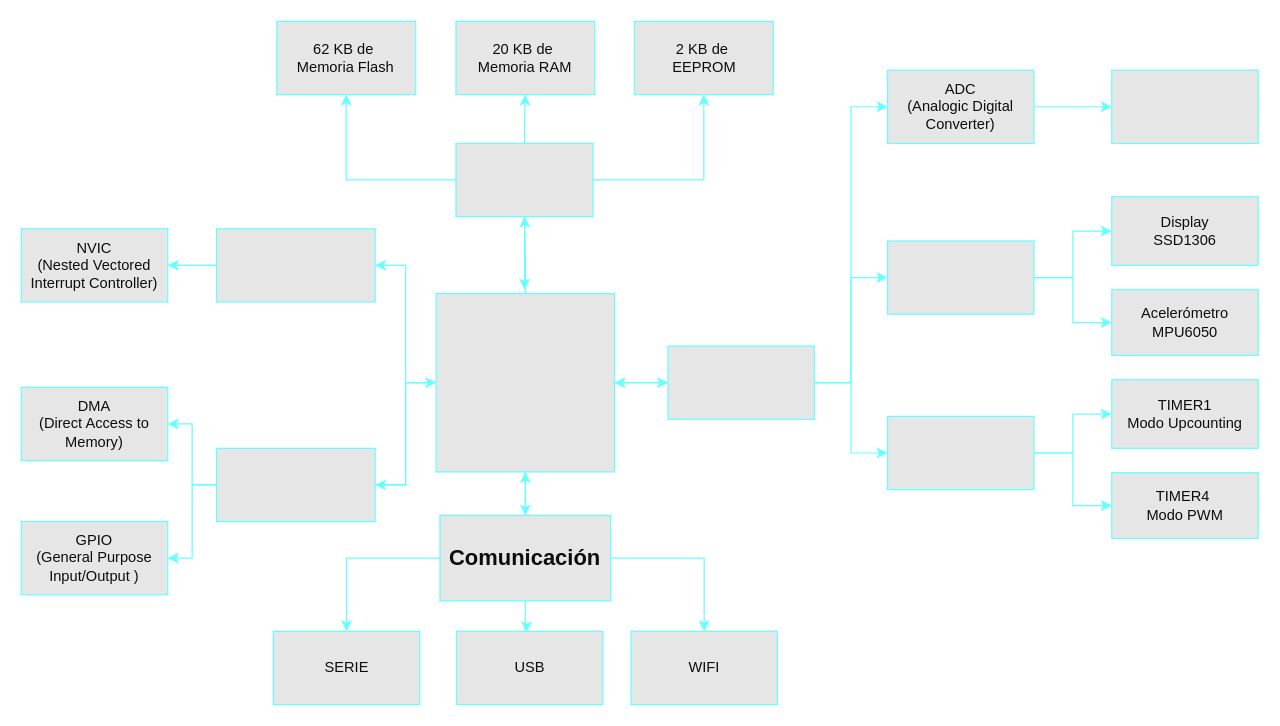
Image size: 1280x726. Some labels were removed from this diagram. Each missing label, with the box of its shape:
BLUEPILL: (435, 292, 615, 472)
I2C (Inter-Integrated Circuit): (886, 240, 1034, 314)
Interrupciones y Eventos: (215, 228, 375, 302)
Memoria: (455, 142, 593, 217)
Módulos: (667, 345, 814, 419)
Periféricos: (215, 447, 375, 522)
Sensor infrarrojo TCRT5000: (1111, 69, 1258, 143)
Timers: (886, 415, 1034, 490)
